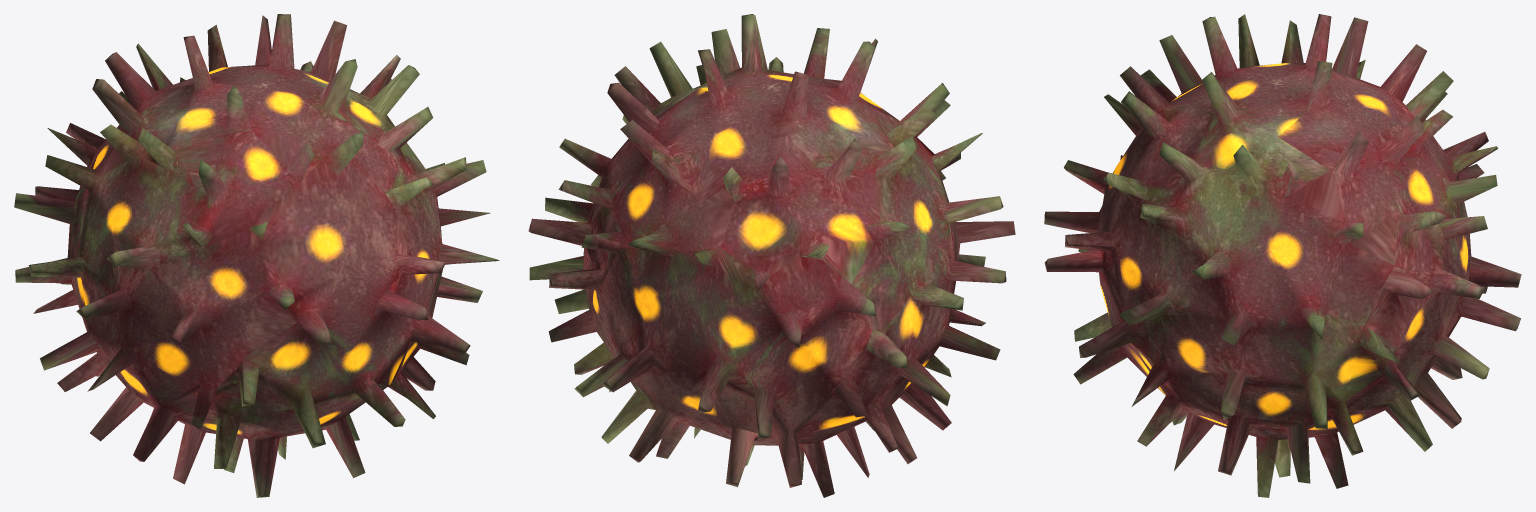
The model's file is RizVirus.fbx.
The picture shows the model from 3 angles, left to right: view 1: azimuth 30°, elevation 25°; view 2: azimuth 150°, elevation 25°; view 3: azimuth 270°, elevation 25°; orthographic projection.
Parts seen in each view (by area): view 1: defaultMaterial; view 2: defaultMaterial; view 3: defaultMaterial.
Part boxes in pixels (bbox=[...]): defaultMaterial: bbox=[14, 14, 499, 497]; defaultMaterial: bbox=[528, 14, 1015, 497]; defaultMaterial: bbox=[1044, 14, 1521, 497].
Size of the model in its own units: 200 by 196 by 198.
Materials: 1 (1 with a texture image).
